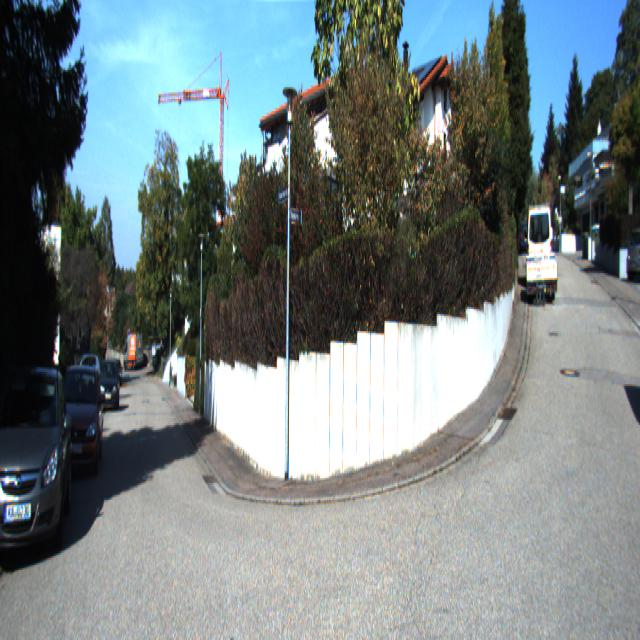Car: (0, 352, 71, 568), (51, 355, 105, 486), (527, 200, 552, 288), (526, 250, 560, 296), (100, 355, 119, 413)
